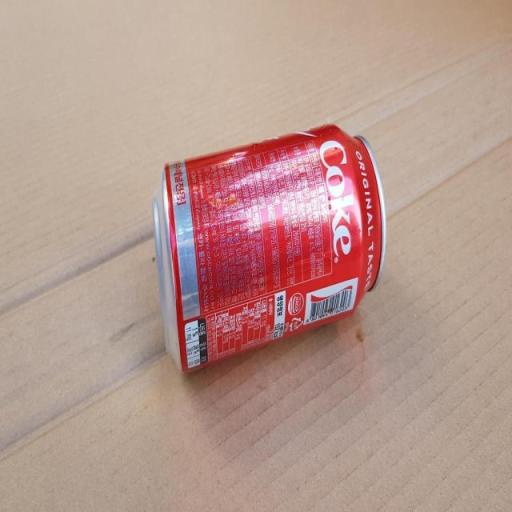metal: (134, 88, 394, 402)
